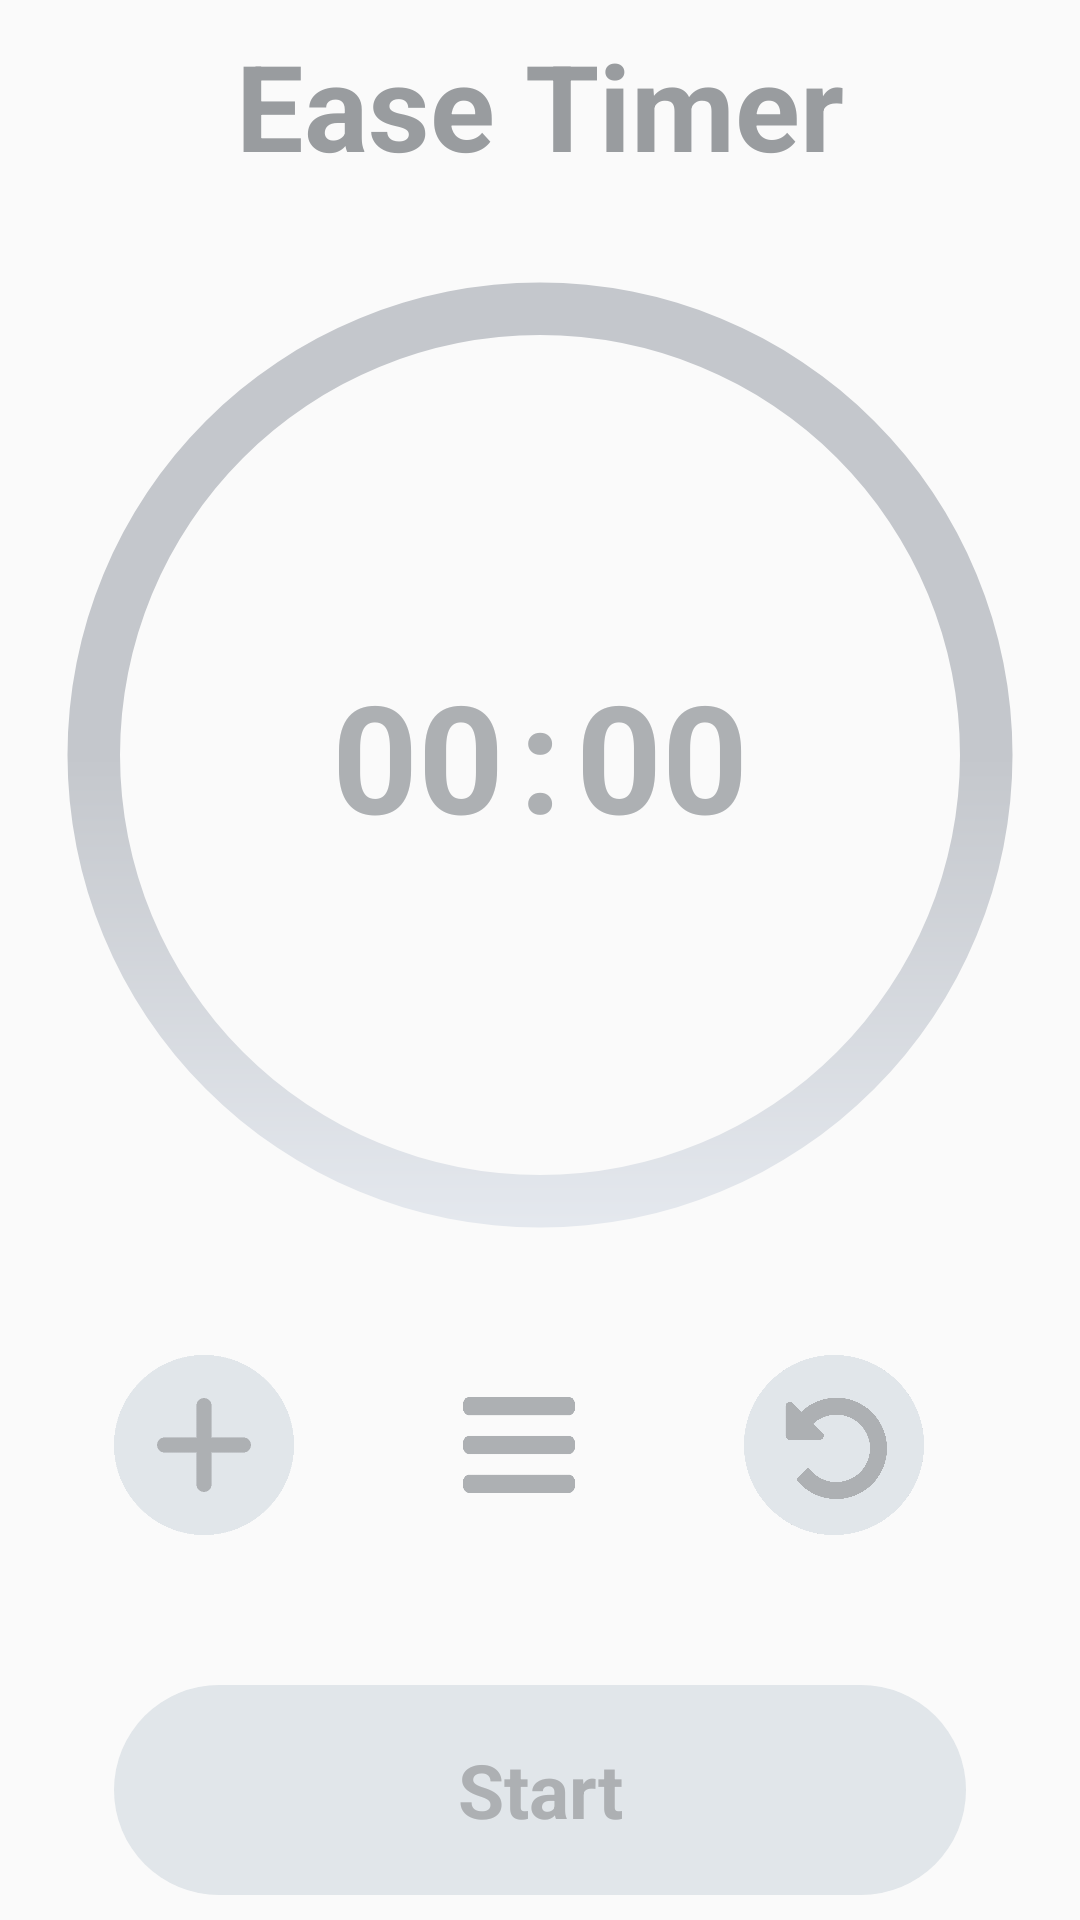

Locate icon controls on the screen. Image size 1080 x 1920, boxes as box=[x1, y1, x2, y2].
menu: box=[463, 1397, 575, 1493]
